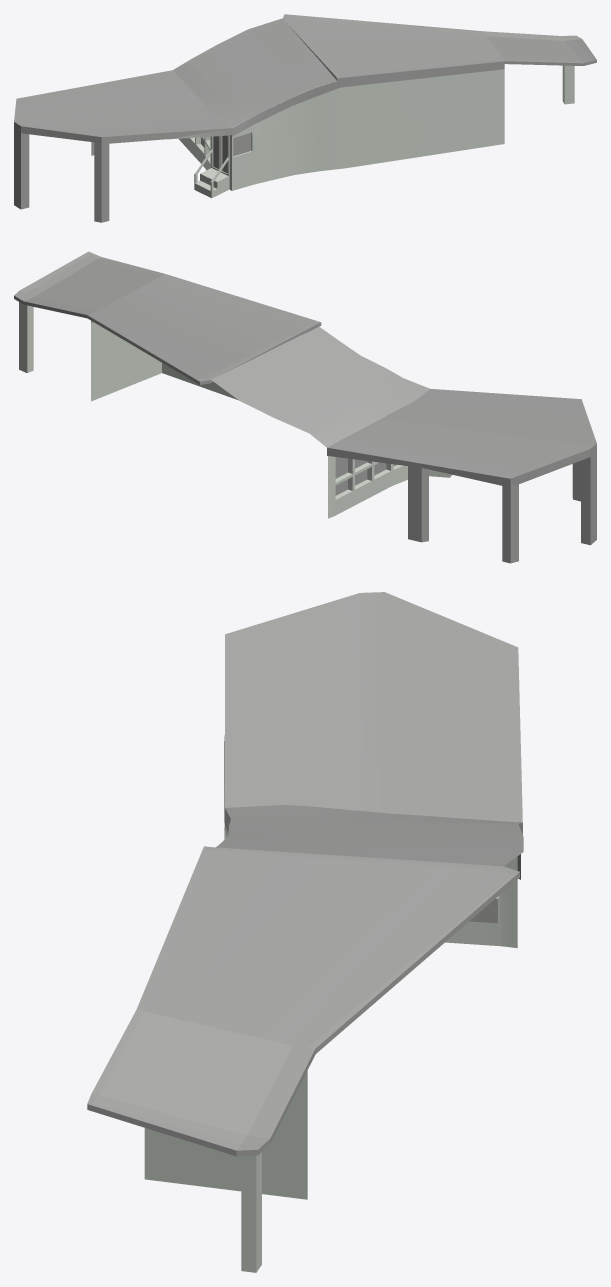
Rendered from WE02_House.fbx.
3 renders of one model, top to bottom at view 1: azimuth 30°, elevation 25°; view 2: azimuth 150°, elevation 25°; view 3: azimuth 270°, elevation 25°, orthographic. The views are drawn at different scales.
Parts seen in each view (by area): view 1: FarHouse; view 2: FarHouse; view 3: FarHouse.
Part boxes in pixels (x1=…): FarHouse: x1=14, y1=14, x2=596, y2=222; FarHouse: x1=14, y1=251, x2=596, y2=563; FarHouse: x1=87, y1=592, x2=523, y2=1272.
Size of the model in its own units: 78.48 by 13.01 by 27.92.
Materials: 1 (1 with a texture image).
